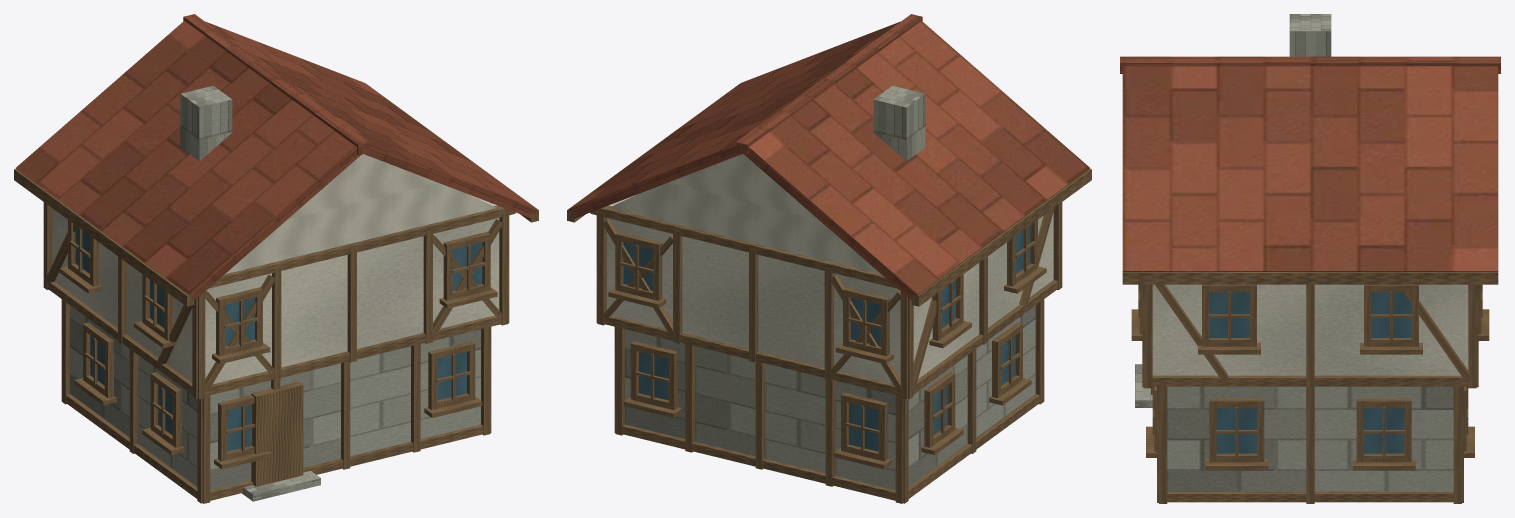
3 renders of one model, left to right at view 1: azimuth 30°, elevation 25°; view 2: azimuth 150°, elevation 25°; view 3: azimuth 270°, elevation 25°, orthographic. The views are drawn at different scales.
Parts seen in each view (by area): view 1: house-roof, house-wood, house-plaster, house-stone, house-glass; view 2: house-roof, house-wood, house-plaster, house-stone, house-glass; view 3: house-roof, house-wood, house-stone, house-plaster, house-glass.
Part boxes in pixels (x1,y1,x2,y2): house-roof: [15, 14, 537, 301]; house-wood: [14, 84, 538, 503]; house-plaster: [52, 154, 499, 383]; house-stone: [70, 85, 480, 501]; house-glass: [75, 227, 482, 451]; house-roof: [568, 14, 1090, 300]; house-wood: [567, 84, 1091, 503]; house-plaster: [606, 154, 1053, 383]; house-stone: [625, 85, 1035, 490]; house-glass: [623, 225, 1030, 451]; house-roof: [1120, 56, 1500, 271]; house-wood: [1122, 272, 1498, 503]; house-stone: [1135, 14, 1453, 491]; house-plaster: [1152, 284, 1468, 375]; house-glass: [1209, 292, 1411, 453].
Bounding box in the file's own units: 8.54 × 7.83 × 7.36.
5 materials, 5 textured.
